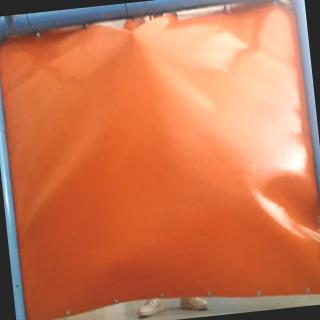Hit-hRxx: (124, 26, 141, 40)
